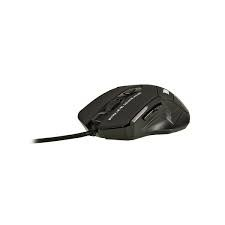mouse: (75, 65, 205, 147)
